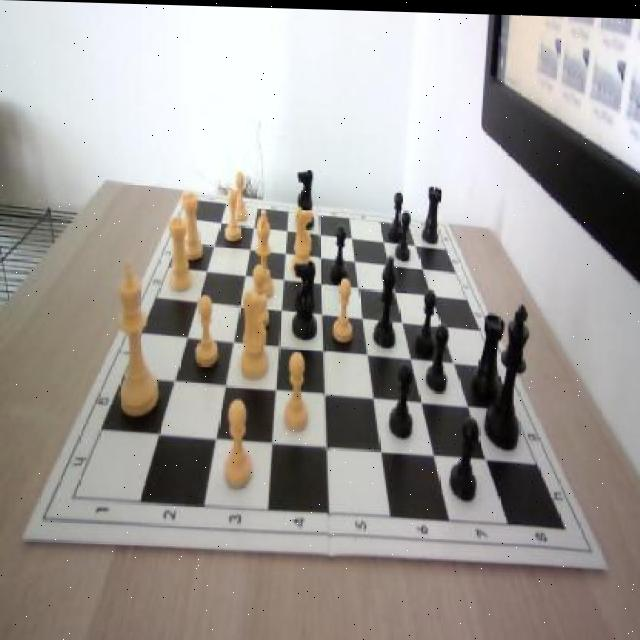bishop: (376, 250, 400, 349)
black-bishop: (485, 302, 529, 448)
black-king: (294, 259, 318, 340), (294, 162, 315, 227)
black-knight: (449, 413, 478, 498), (390, 358, 416, 436), (424, 321, 448, 390), (415, 285, 437, 353), (331, 223, 349, 281), (395, 208, 411, 261), (389, 189, 405, 239)
black-queen: (472, 308, 504, 397), (423, 184, 442, 241)
black-rook: (250, 207, 276, 305)
white-bishop: (117, 255, 159, 415)
white-king: (234, 279, 273, 382), (292, 202, 316, 275)
white-knight: (221, 398, 254, 488), (280, 348, 311, 433), (192, 292, 220, 369), (246, 263, 270, 331), (334, 274, 354, 340), (231, 173, 249, 222), (225, 188, 242, 239)
white-queen: (168, 214, 195, 289), (180, 189, 202, 262)
